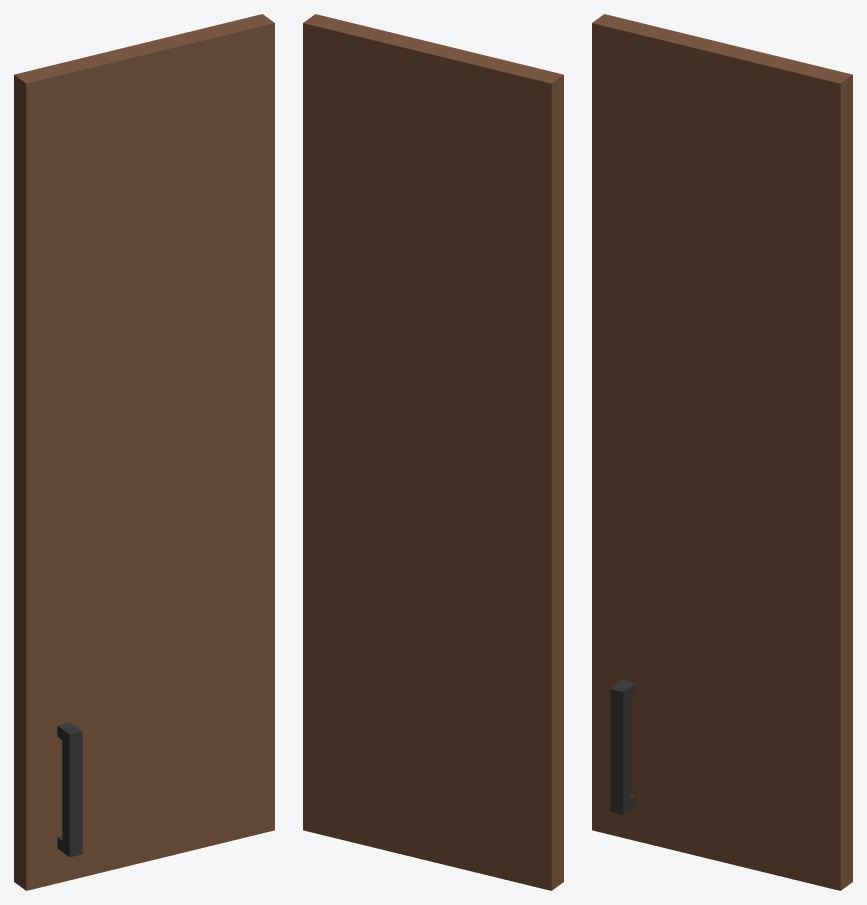
Rendered from Door1_C2_13.fbx.
3 views of the same model, side by side, from view 1: azimuth 30°, elevation 25°; view 2: azimuth 150°, elevation 25°; view 3: azimuth 330°, elevation 25° (orthographic).
Parts seen in each view (by area): view 1: Door1_C2_13; view 2: Door1_C2_13; view 3: Door1_C2_13.
Boxes of the visible parts, box(x1,y1,x2,y2) form: Door1_C2_13: box(14, 14, 274, 890); Door1_C2_13: box(303, 14, 563, 890); Door1_C2_13: box(592, 14, 852, 890).
Size of the model in its own units: 29 by 90 by 5.03.
